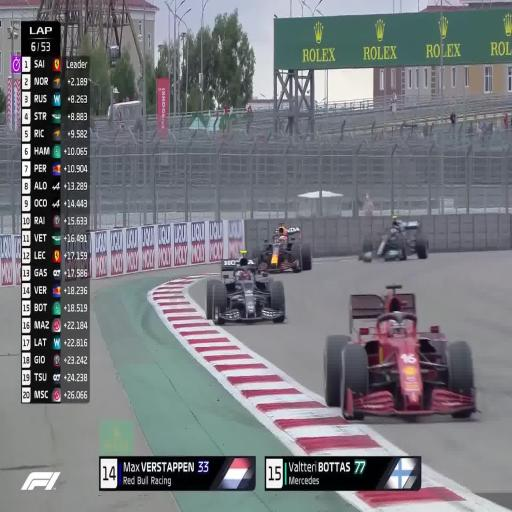f1_car: (323, 284, 477, 419), (206, 250, 285, 324), (359, 217, 428, 261), (251, 225, 311, 272)
